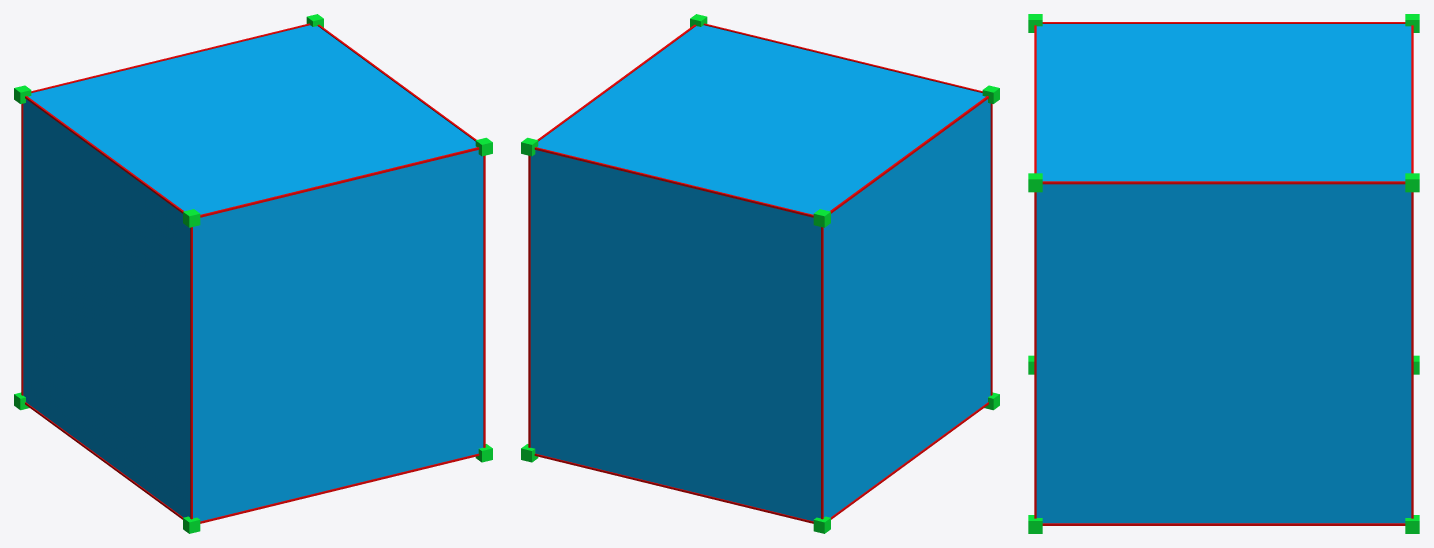
Rendered from figure_1_4.fbx.
The picture shows the model from 3 angles, left to right: view 1: azimuth 30°, elevation 25°; view 2: azimuth 150°, elevation 25°; view 3: azimuth 270°, elevation 25°; orthographic projection. The views are drawn at different scales.
Visible parts, largest first — view 1: cube, edge_rectangle_2, edge_rectangle_10, edge_rectangle_11, edge_rectangle_9, edge_rectangle_6, edge_rectangle_1, edge_rectangle_4; view 2: cube, edge_rectangle_1, edge_rectangle_9, edge_rectangle_12, edge_rectangle_10, edge_rectangle_5, edge_rectangle_2, edge_rectangle_4; view 3: cube, edge_rectangle_3, edge_rectangle_7, edge_rectangle_11, edge_rectangle_12, edge_rectangle_4.
Boxes of the visible parts, x1,y1,x2,y2 form: cube: (23, 25, 483, 521); edge_rectangle_2: (200, 147, 479, 217); edge_rectangle_10: (190, 227, 192, 519); edge_rectangle_11: (483, 155, 485, 447); edge_rectangle_9: (21, 103, 23, 395); edge_rectangle_6: (200, 453, 479, 523); edge_rectangle_1: (31, 23, 310, 92); edge_rectangle_4: (25, 96, 183, 213); cube: (530, 25, 990, 521); edge_rectangle_1: (534, 147, 813, 217); edge_rectangle_9: (821, 227, 823, 519); edge_rectangle_12: (528, 155, 530, 447); edge_rectangle_10: (990, 103, 992, 395); edge_rectangle_5: (534, 453, 813, 523); edge_rectangle_2: (703, 23, 982, 92); edge_rectangle_4: (830, 96, 988, 213); cube: (1036, 24, 1411, 523); edge_rectangle_3: (1042, 181, 1405, 184); edge_rectangle_7: (1042, 523, 1405, 525); edge_rectangle_11: (1034, 192, 1036, 518); edge_rectangle_12: (1411, 192, 1413, 518); edge_rectangle_4: (1042, 22, 1405, 23).
Bounding box in the file's own units: 83.01 × 83.01 × 83.01.
